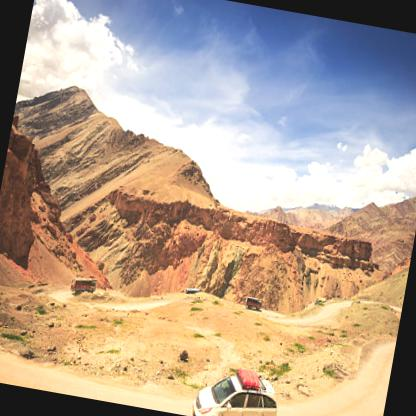car: (190, 362, 284, 415)
